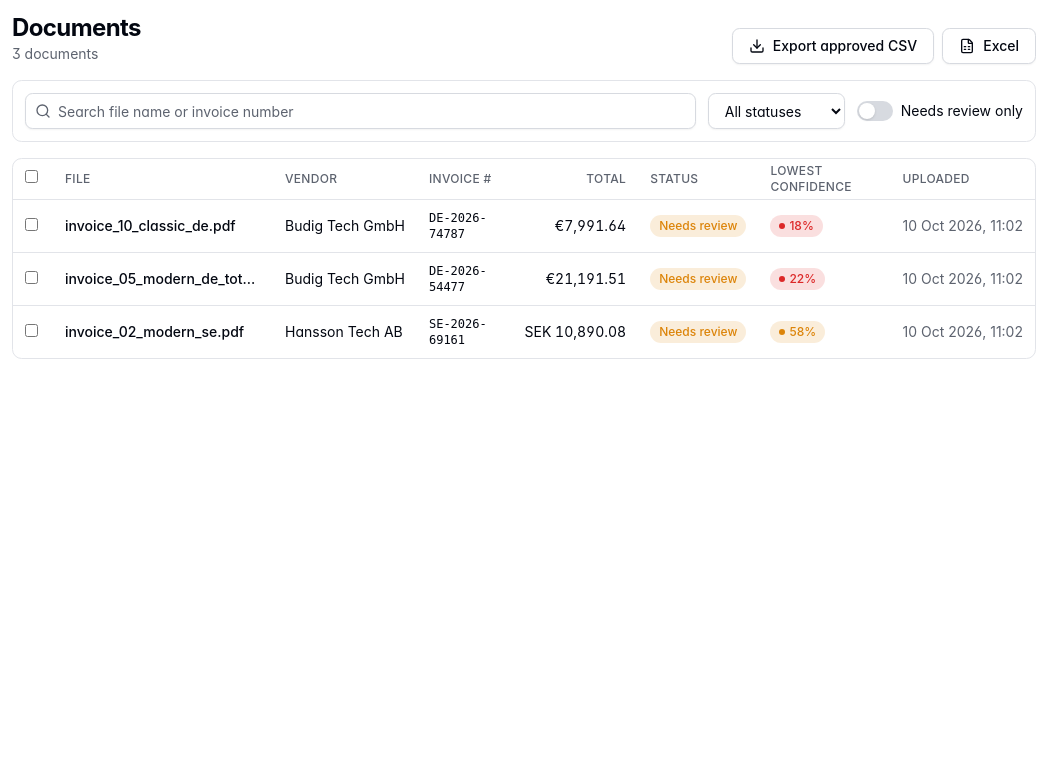
Test case: DocumentsPage › selects rows and exports them
Click the checkbox named "Select invoice_02_modern_se.pdf". click: x=32, y=330
box: left=25, top=324, right=38, bottom=336
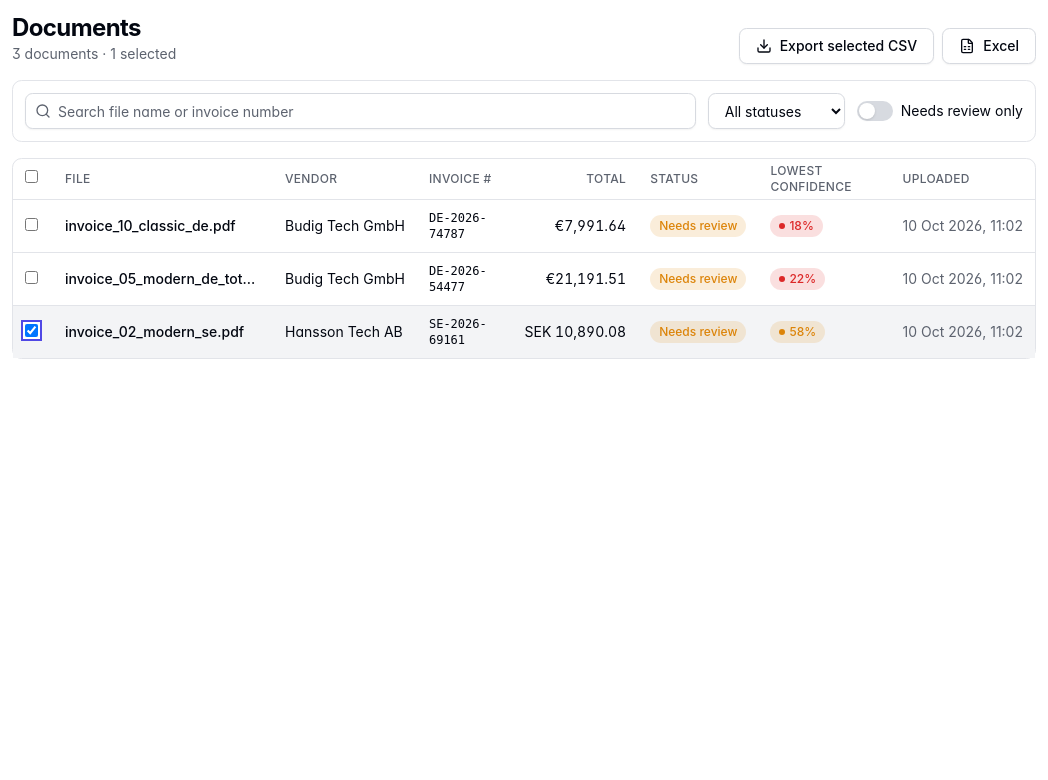
expect the text "3 documents · 1 selected" is shown: met, box left=12, top=44, right=176, bottom=64
Click the button "Export selected CSV". click: x=836, y=46
box: left=739, top=28, right=934, bottom=64
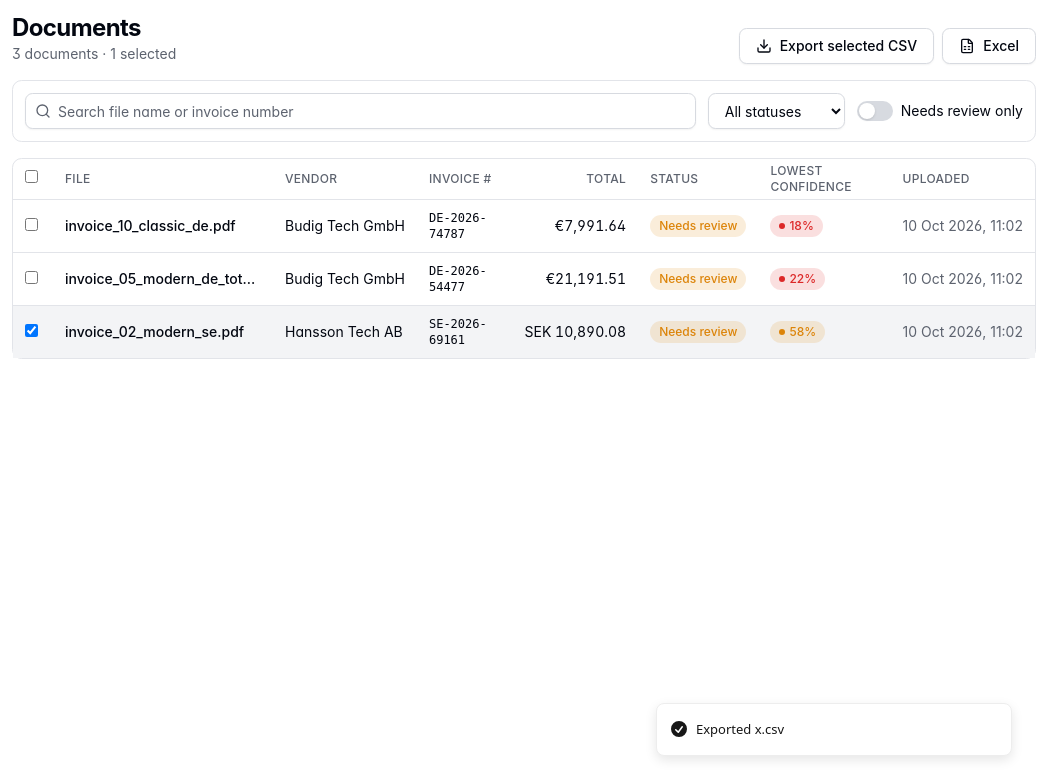
expect the text "Exported x.csv" is shown: met, box left=696, top=720, right=784, bottom=739
Click the checkbox named "Select all on this page". click: x=32, y=177
box: left=25, top=170, right=38, bottom=183
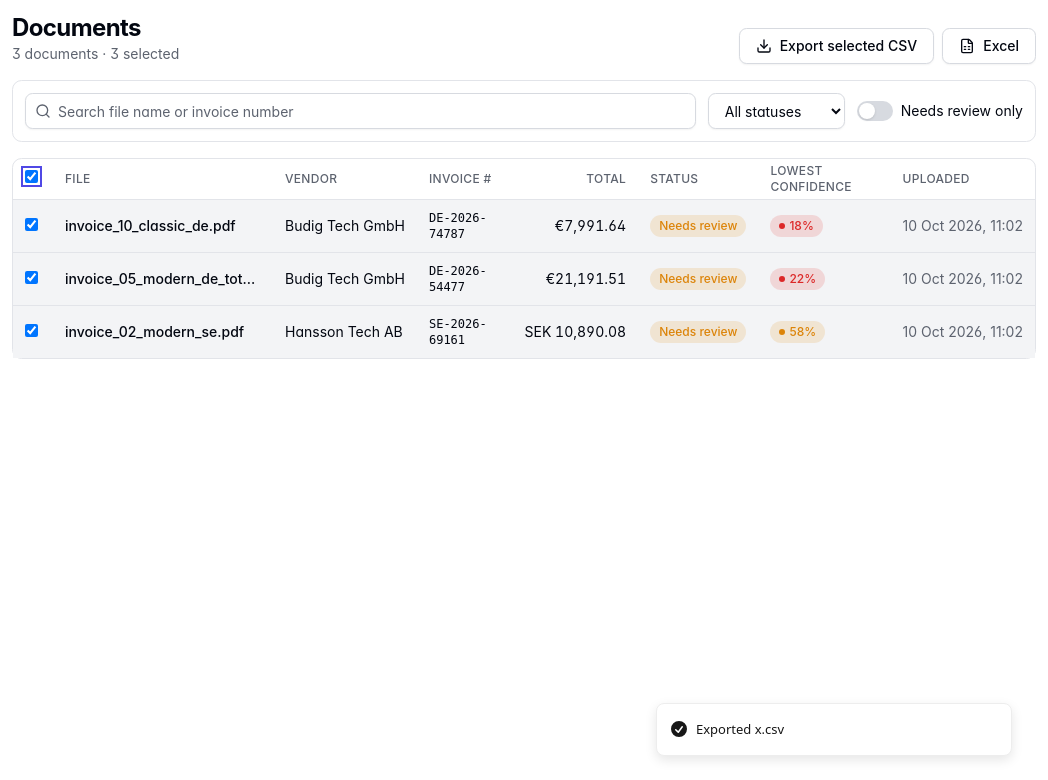
expect the text "3 documents · 3 selected" is shown: met, box left=12, top=44, right=179, bottom=64
Click the checkbox named "Select all on this page". click: x=32, y=177
box: left=25, top=170, right=38, bottom=183
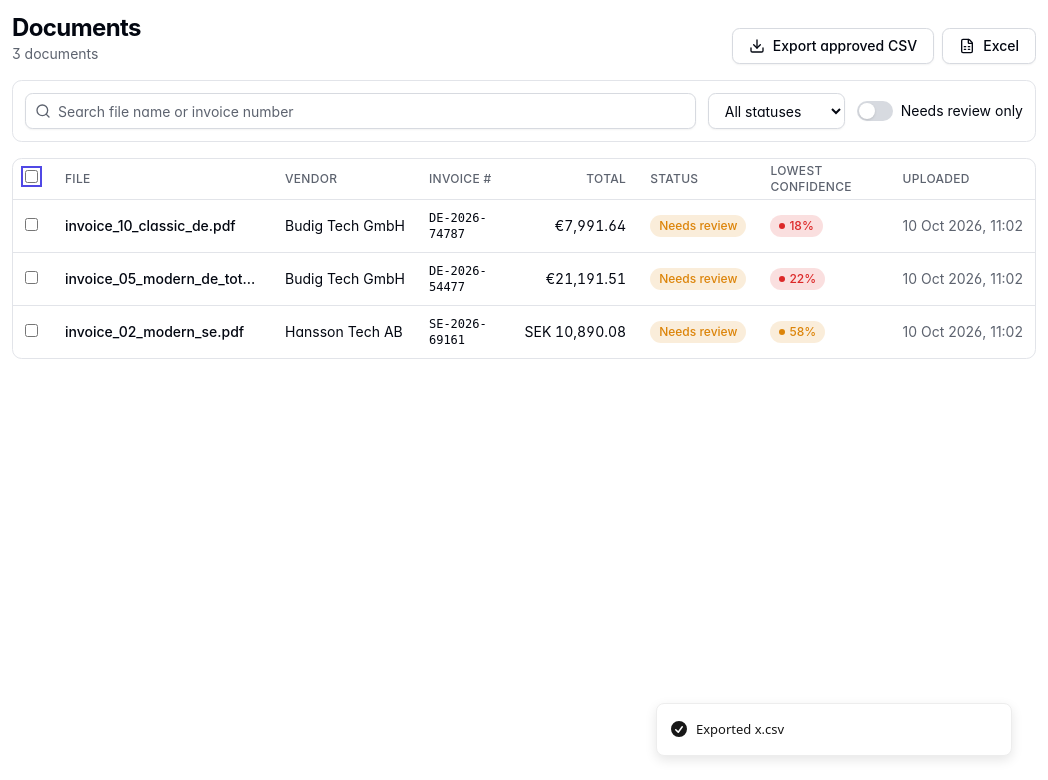
expect the text "selected" is gone: met
